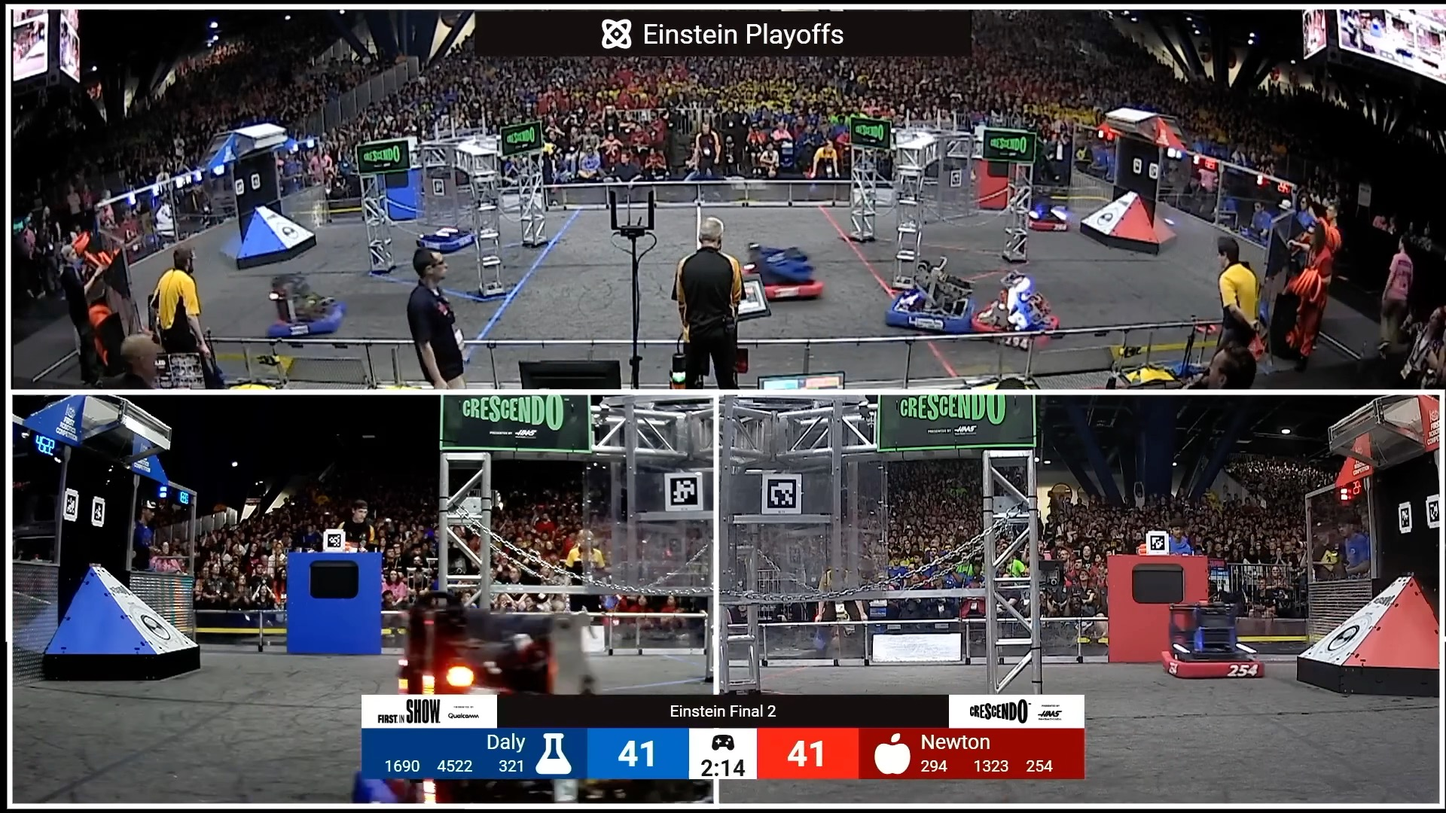bumpers: (880, 289, 988, 340), (743, 256, 835, 311), (973, 299, 1065, 350), (268, 298, 358, 346), (1158, 651, 1267, 685), (421, 229, 486, 255), (1020, 212, 1074, 235)
